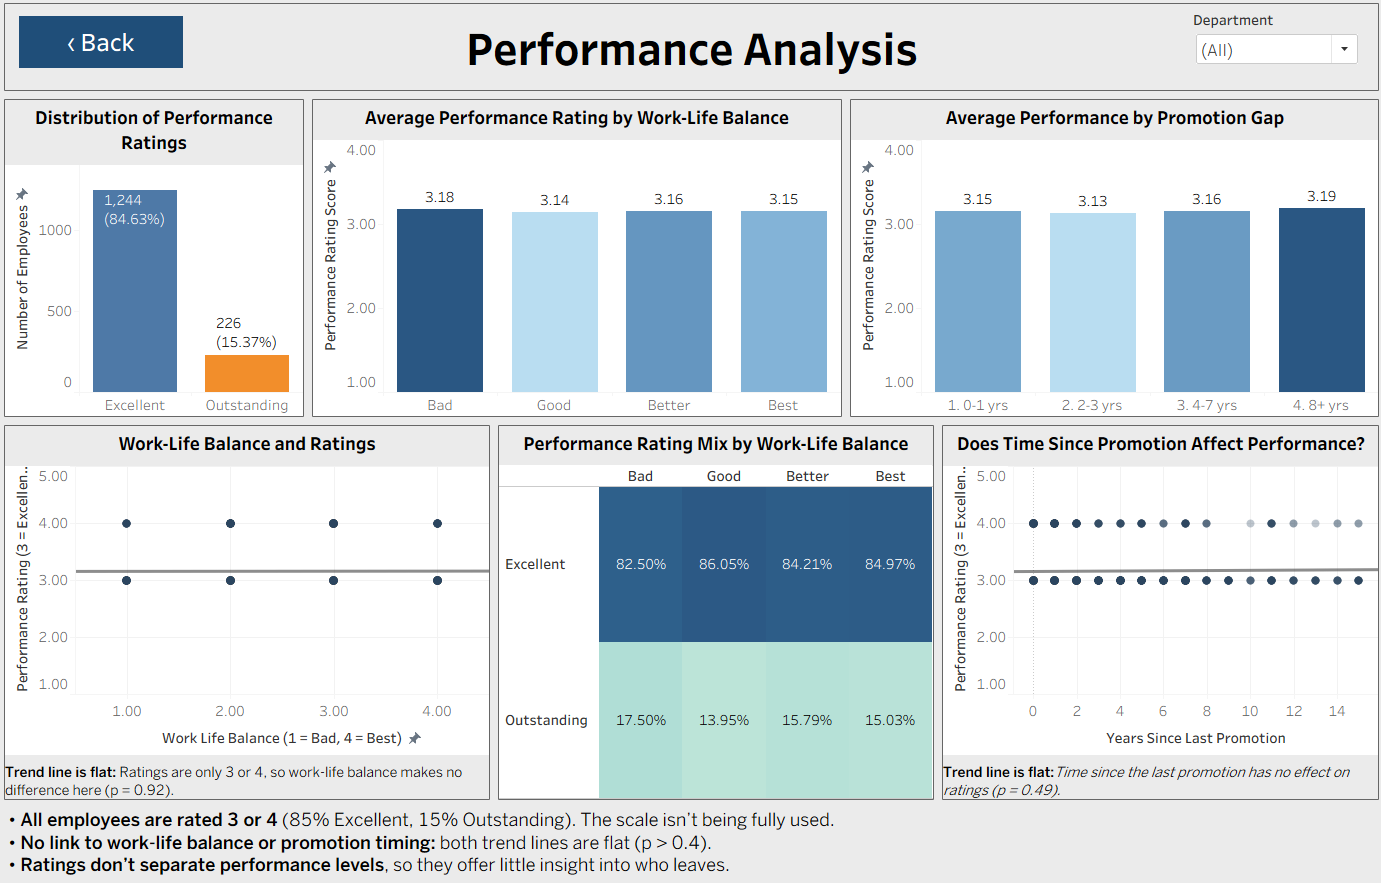

What the dashboard file says about the page in this screenshot:
{"tool":"tableau","page":{"name":"Performance","canvas":[1400,900],"ordinal":3},"visuals":[{"type":"text","box":[8,8,1384,96]},{"type":"filter","title":"Q8 Rating Chart","param":"[federated.01518ul1v7mdp516qhbbj0vz29it].[none:Department:nk]","box":[1201,19,168,63]},{"type":"dashboard-object","box":[27,25,164,52]},{"type":"worksheet","title":"Q8 Rating Chart","mark":"Bar","rows":["Calculation_1959668828315658"],"cols":["PerformanceRating"],"box":[8,104,308,326]},{"type":"worksheet","title":"MQ6 Avg Rating by WLB","mark":"Bar","rows":["Performance Rating (copy)_1959668816773128"],"cols":["WorkLifeBalance"],"box":[316,104,538,326]},{"type":"worksheet","title":"MQ10 Avg Rating by Promotion Gap","mark":"Bar","rows":["Performance Rating (copy)_1959668816773128"],"cols":["Calculation_1959668829224979"],"box":[854,104,538,326]},{"type":"worksheet","title":"MQ6 WLB vs Performance","mark":"Circle","rows":["Performance Rating (copy)_1959668816773128"],"cols":["Work Life Balance (copy)_1959668816433158"],"box":[8,430,494,383]},{"type":"worksheet","title":"MQ6 WLB Performance Heatmap","mark":"Square","rows":["PerformanceRating"],"cols":["WorkLifeBalance"],"box":[502,430,444,383]},{"type":"worksheet","title":"MQ10 Promotion vs Performance","mark":"Circle","rows":["Performance Rating (copy)_1959668816773128"],"cols":["YearsSinceLastPromotion"],"box":[946,430,446,383]},{"type":"text","box":[8,813,1384,77]}]}

Visuals, with their boxes in screenshot pixels (x1, y1, x2, y2), scaled from the page's 1400x900 canvas onto the 1381x885 screenshot:
text: [x1=8, y1=8, x2=1373, y2=102]
"Q8 Rating Chart" filter: [x1=1185, y1=19, x2=1350, y2=81]
dashboard-object: [x1=27, y1=25, x2=188, y2=76]
"Q8 Rating Chart" worksheet (Bar marks): [x1=8, y1=102, x2=312, y2=423]
"MQ6 Avg Rating by WLB" worksheet (Bar marks): [x1=312, y1=102, x2=842, y2=423]
"MQ10 Avg Rating by Promotion Gap" worksheet (Bar marks): [x1=842, y1=102, x2=1373, y2=423]
"MQ6 WLB vs Performance" worksheet (Circle marks): [x1=8, y1=423, x2=495, y2=799]
"MQ6 WLB Performance Heatmap" worksheet (Square marks): [x1=495, y1=423, x2=933, y2=799]
"MQ10 Promotion vs Performance" worksheet (Circle marks): [x1=933, y1=423, x2=1373, y2=799]
text: [x1=8, y1=799, x2=1373, y2=875]
